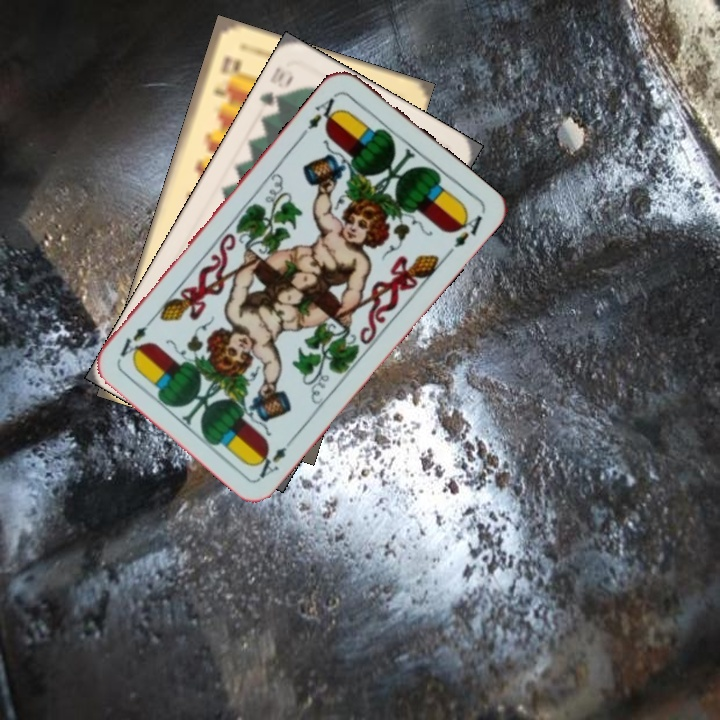E10: (210, 52, 239, 99)
EA: (252, 432, 298, 481), (303, 89, 344, 132)
G10: (255, 62, 296, 119)
